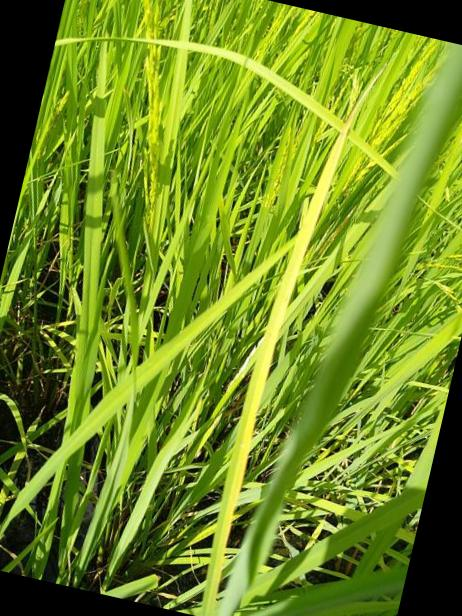Leaf Blight: (212, 119, 350, 564)
